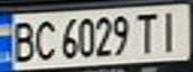0: (75, 13, 96, 60)
2: (93, 12, 115, 60)
6: (57, 15, 81, 61)
9: (109, 11, 136, 57)
B: (6, 18, 39, 64)
C: (30, 17, 57, 63)
I: (154, 7, 187, 53)
T: (133, 9, 160, 55)
